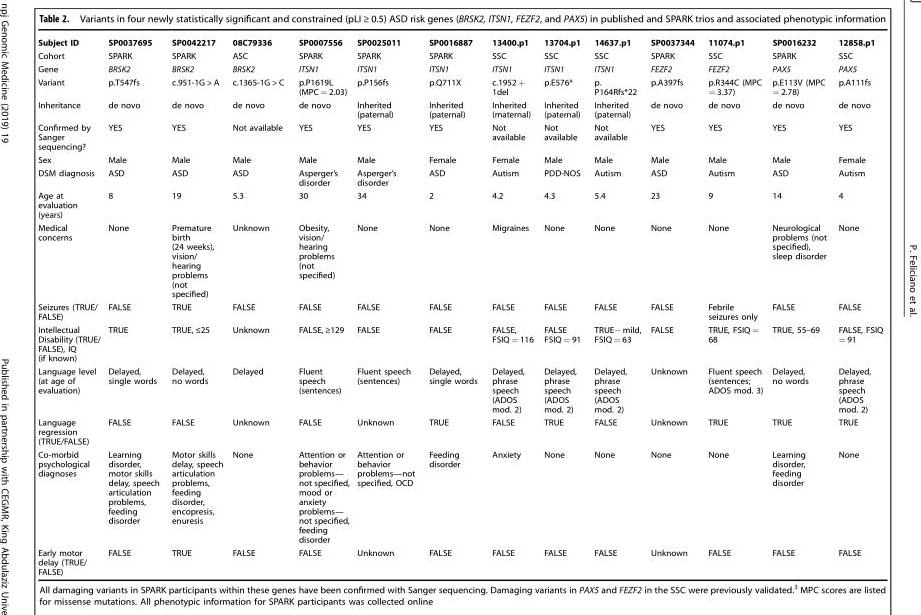table: (38, 36, 883, 576)
table column: (353, 36, 422, 576), (38, 36, 104, 576), (701, 36, 767, 576), (767, 36, 832, 576), (165, 36, 228, 576), (228, 36, 291, 576), (422, 36, 485, 576), (291, 36, 353, 576), (104, 36, 165, 576), (587, 36, 646, 576), (646, 36, 701, 576), (485, 36, 539, 576), (832, 36, 883, 576), (539, 36, 587, 576)
table row: (38, 447, 883, 545), (38, 220, 883, 300), (38, 364, 883, 415), (38, 322, 883, 364), (38, 120, 883, 152), (38, 188, 883, 220), (38, 415, 883, 447), (38, 545, 883, 576), (38, 74, 883, 97), (38, 97, 883, 120), (38, 165, 883, 188), (38, 300, 883, 322), (38, 48, 883, 61), (38, 61, 883, 74), (38, 152, 883, 165), (38, 36, 883, 48)
